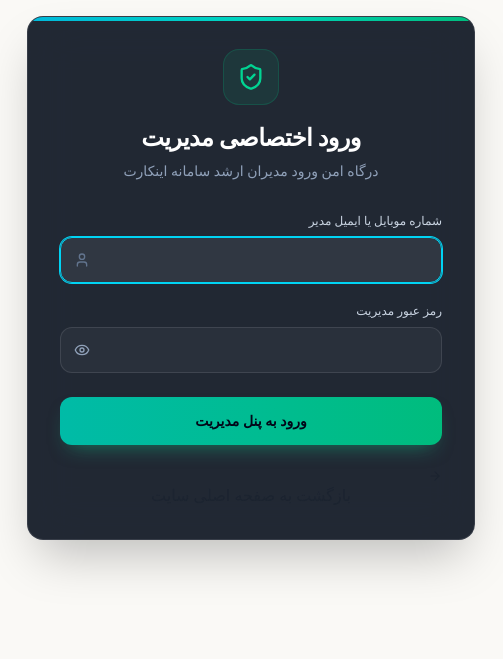
Test case: admin login form › explains what is missing instead of silently doing nothing
The image size is (503, 659).
Click the button "ورود به پنل مدیریت" at coordinates (251, 421), box [60,397,442,445]
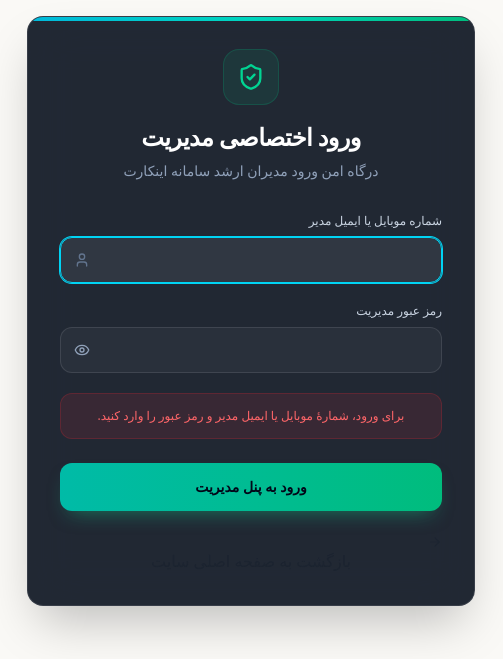
Expected: the message shows "رمز عبور را وارد کنید", [98,407,404,424]
